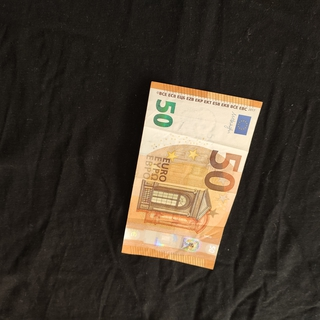50EUROFront: (120, 79, 264, 271)
